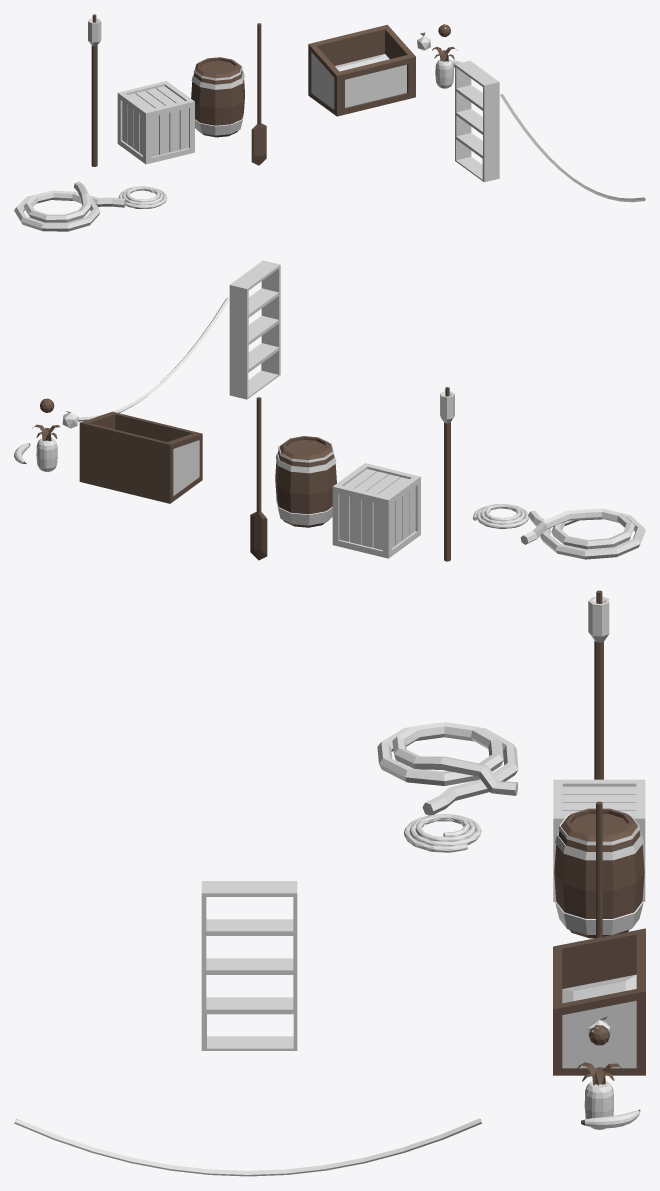
Rendered from Extra Props.fbx.
The picture shows the model from 3 angles, top to bottom: view 1: azimuth 30°, elevation 25°; view 2: azimuth 150°, elevation 25°; view 3: azimuth 270°, elevation 25°; orthographic projection. The views are drawn at different scales.
Parts seen in each view (by area): view 1: Fruit Crate, Crate, Shelf 1, Barrel, Rope 1, Torch, Oar, Rope 2, Laundry Line, Pineapple; view 2: Fruit Crate, Crate, Shelf 1, Barrel, Rope 1, Oar, Torch, Rope 2, Pineapple, Laundry Line; view 3: Fruit Crate, Barrel, Shelf 1, Rope 1, Crate, Laundry Line, Torch, Rope 2, Pineapple, Oar.
Boxes of the visible parts, left/top/right/bottom form: Fruit Crate: left=308, top=24, right=415, bottom=116; Crate: left=117, top=81, right=194, bottom=164; Shelf 1: left=455, top=60, right=499, bottom=182; Barrel: left=191, top=57, right=244, bottom=137; Rope 1: left=14, top=181, right=125, bottom=231; Torch: left=88, top=14, right=101, bottom=166; Oar: left=251, top=23, right=266, bottom=165; Rope 2: left=118, top=186, right=167, bottom=208; Laundry Line: left=500, top=94, right=645, bottom=202; Pineapple: left=432, top=47, right=457, bottom=88; Fruit Crate: left=79, top=411, right=202, bottom=503; Crate: left=332, top=463, right=420, bottom=558; Shelf 1: left=229, top=260, right=280, bottom=399; Barrel: left=275, top=436, right=336, bottom=527; Rope 1: left=520, top=508, right=645, bottom=559; Oar: left=250, top=397, right=267, bottom=560; Torch: left=440, top=387, right=454, bottom=561; Rope 2: left=472, top=504, right=528, bottom=528; Pineapple: left=32, top=424, right=59, bottom=472; Laundry Line: left=78, top=297, right=229, bottom=421; Fruit Crate: left=553, top=928, right=645, bottom=1075; Barrel: left=554, top=808, right=644, bottom=938; Shelf 1: left=201, top=881, right=297, bottom=1050; Rope 1: left=377, top=722, right=518, bottom=815; Crate: left=553, top=779, right=645, bottom=901; Laundry Line: left=14, top=1118, right=482, bottom=1176; Torch: left=588, top=590, right=609, bottom=779; Rope 2: left=404, top=814, right=481, bottom=852; Pineapple: left=577, top=1062, right=623, bottom=1129; Oar: left=596, top=801, right=602, bottom=937.
Size of the model in its own units: 2407 by 886 by 1629.
